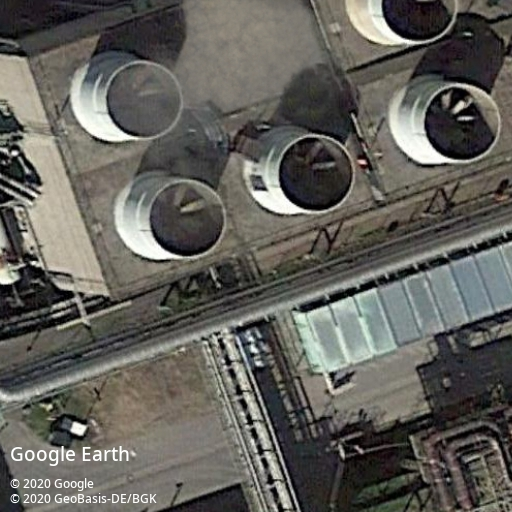Vent: (276, 134, 356, 214), (421, 84, 502, 163), (104, 60, 183, 139), (147, 179, 226, 258)
